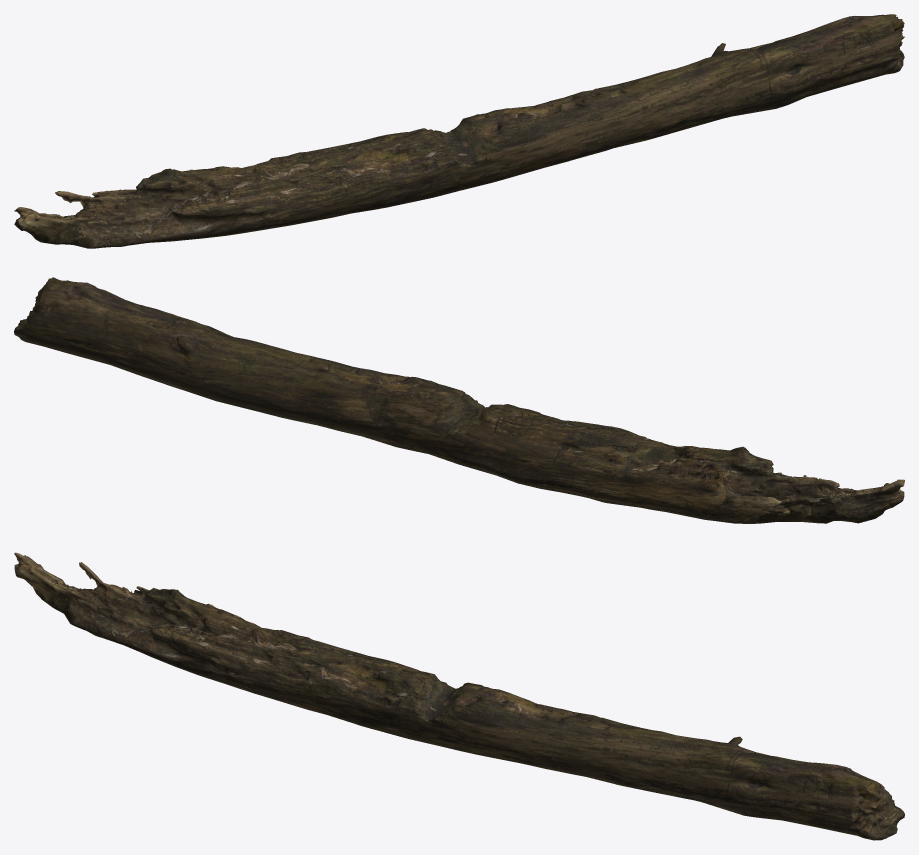
File: dead_tree_trunk.glb
3 views of the same model, one above another, from view 1: azimuth 30°, elevation 25°; view 2: azimuth 150°, elevation 25°; view 3: azimuth 330°, elevation 25° (orthographic).
Parts seen in each view (by area): view 1: dead_tree_trunk; view 2: dead_tree_trunk; view 3: dead_tree_trunk.
Boxes of the visible parts, x1,y1,x2,y2 form: dead_tree_trunk: (14,14,904,248); dead_tree_trunk: (14,277,904,523); dead_tree_trunk: (14,552,904,840).
Bounding box in the file's own units: 3.05 × 0.2898 × 0.2775.
Materials: 1 (1 with a texture image).
